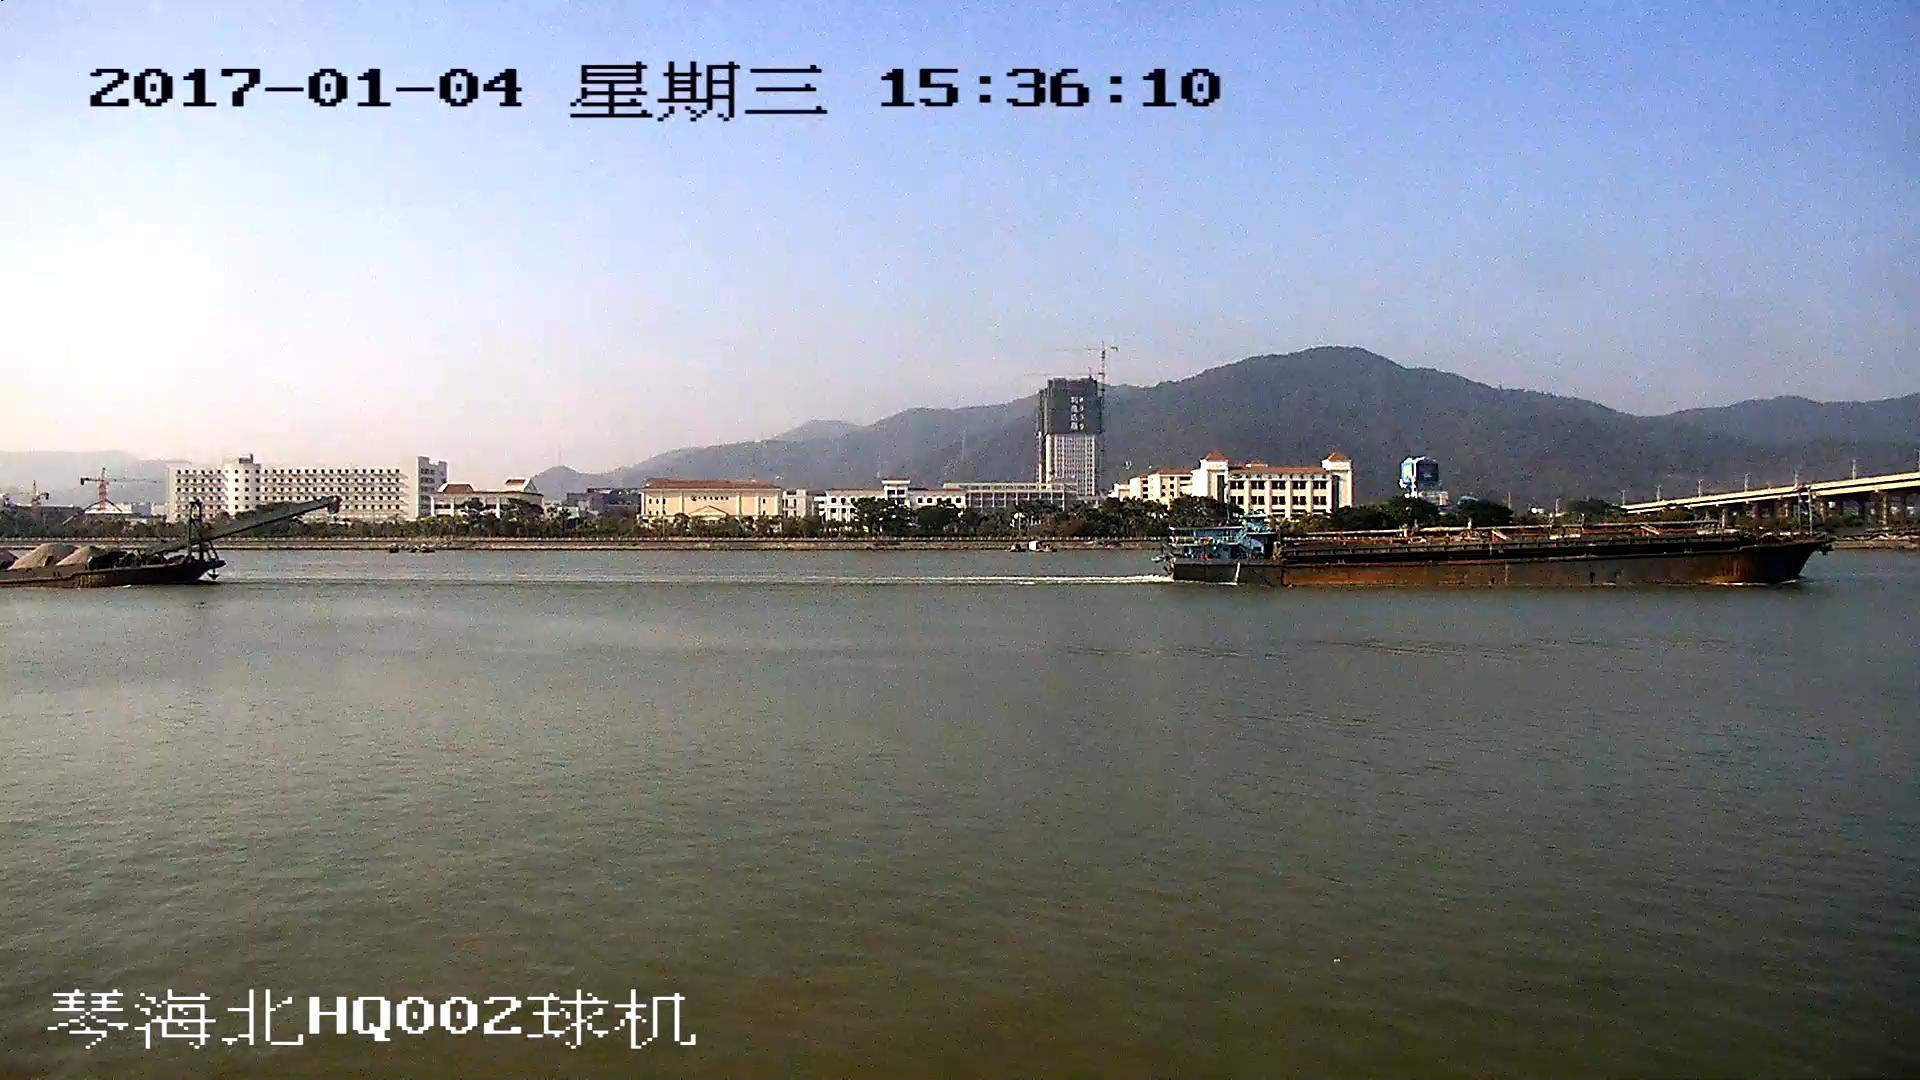Ship: (1163, 524, 1829, 587), (3, 500, 332, 588)
